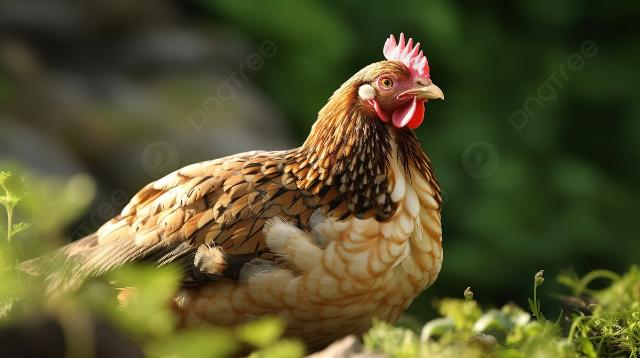Chicken: (21, 31, 446, 343)
